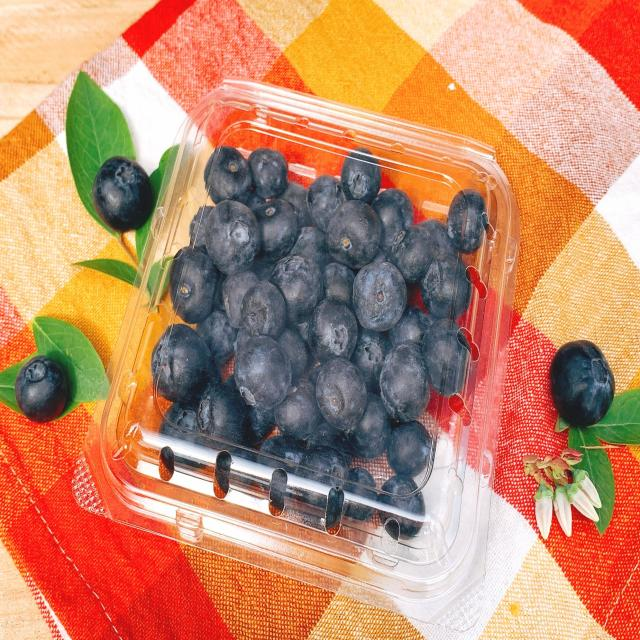blueberry: (73, 83, 519, 640)
